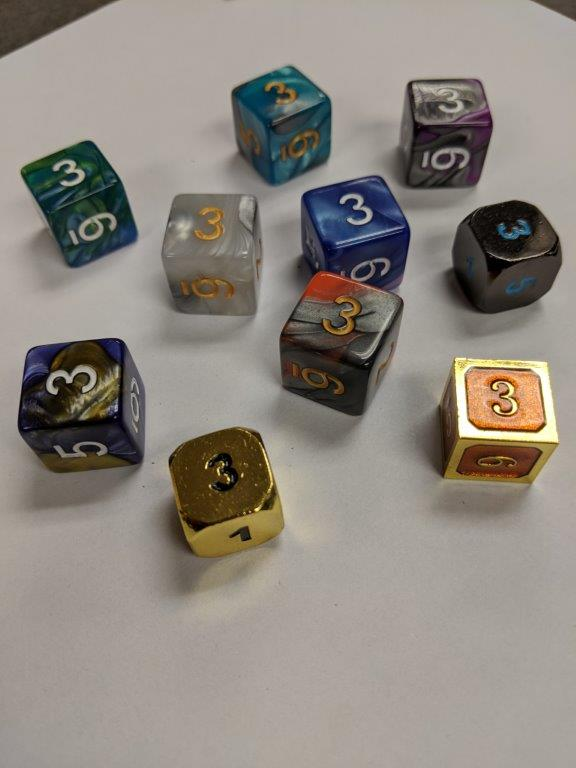d6-3: (279, 272, 406, 419), (438, 357, 565, 490), (20, 339, 143, 471), (20, 140, 140, 271), (298, 177, 411, 295), (228, 63, 334, 186), (452, 201, 562, 313), (162, 194, 262, 317), (398, 77, 493, 194)
